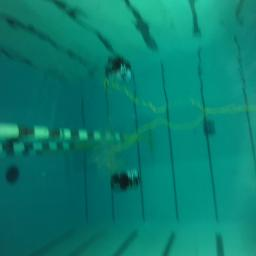Full: (202, 119, 216, 135)
front: (110, 167, 142, 192)
